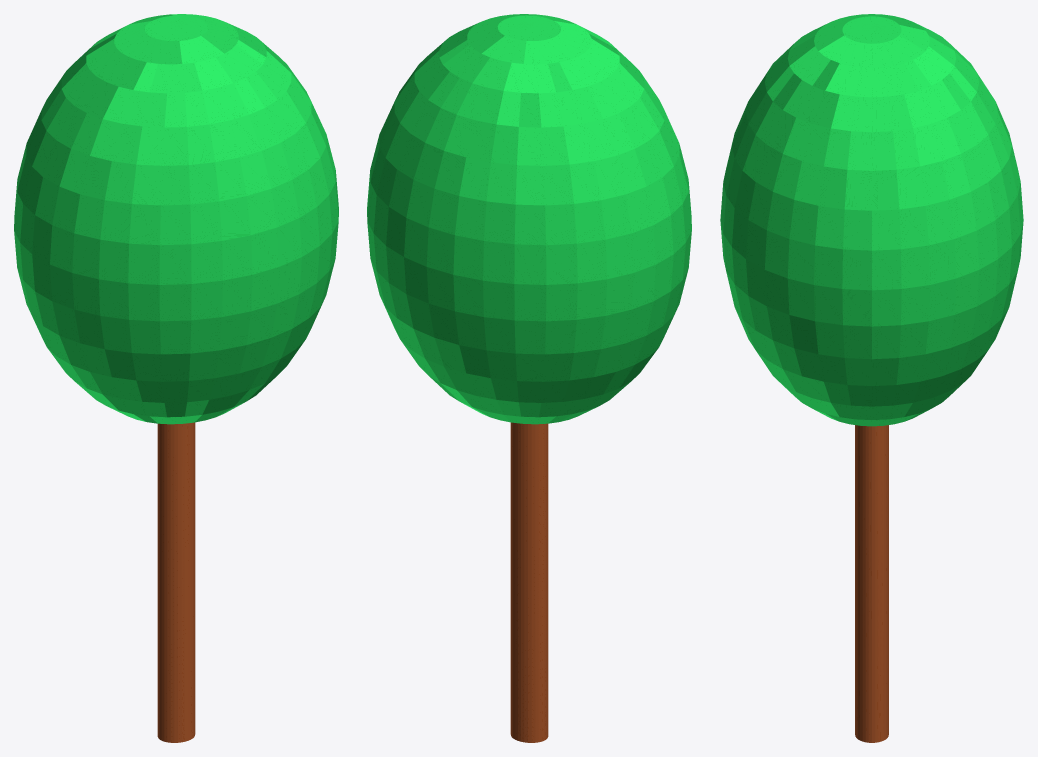
Rendered from tree.lod.glb.
3 views of the same model, side by side, from view 1: azimuth 30°, elevation 25°; view 2: azimuth 150°, elevation 25°; view 3: azimuth 270°, elevation 25° (orthographic).
Parts seen in each view (by area): view 1: Cylinder; view 2: Cylinder; view 3: Cylinder.
Part boxes in pixels (x1,y1,x2,y2): Cylinder: [14, 14, 338, 742]; Cylinder: [367, 14, 691, 742]; Cylinder: [720, 14, 1023, 742].
Size of the model in its own units: 1.38 by 3.25 by 1.26.
1 material, 1 textured.
